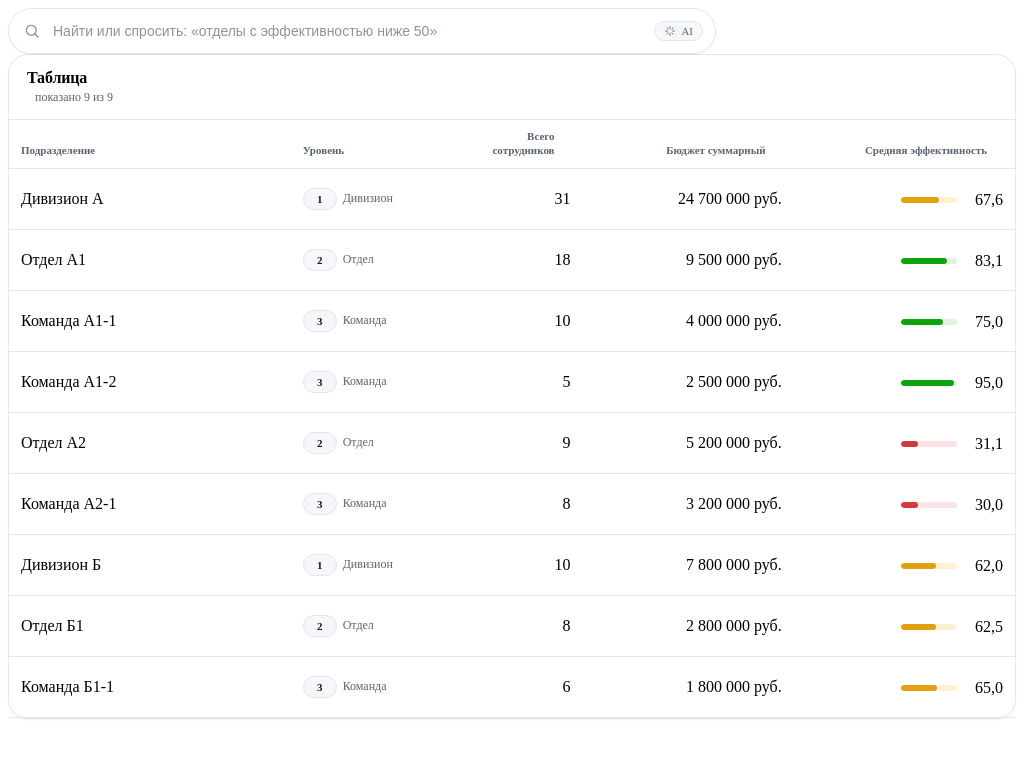
Test: SearchBox + AnalyticsTablePanel › фраза на естественном языке уходит на сервер и превращается в структурированный фильтр
In the search field: (348, 31) [51,22,644,40], type "отделы с эффективностью ниже 65"
Wait 600 ms
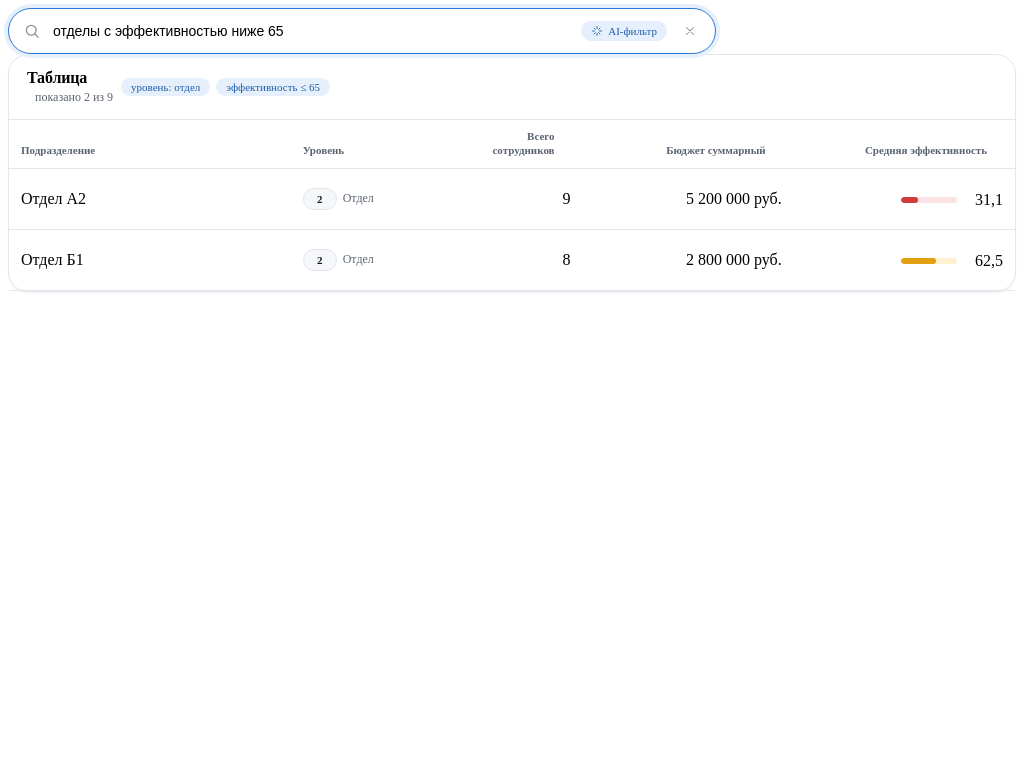
Result: the text "AI-фильтр" is shown at [581,21,667,41]
Result: the list items read "уровень: отдел", "эффективность ≤ 65", in this order at [121,78,210,96]; [216,78,330,96]
